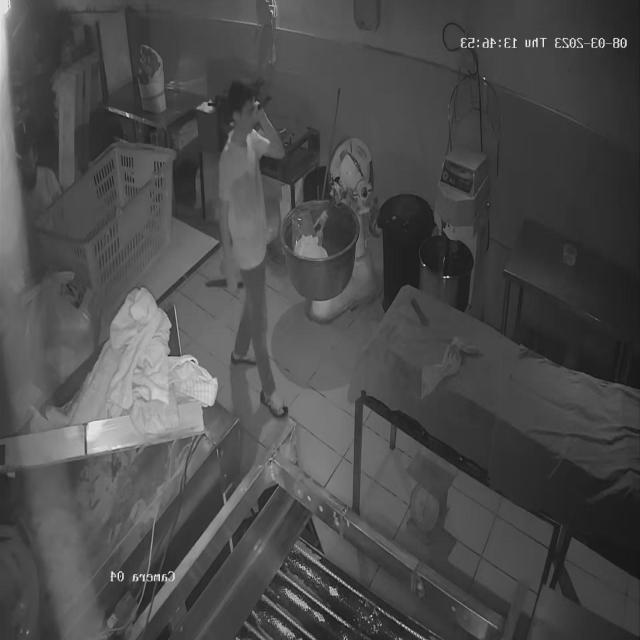Knife: (203, 277, 255, 299)
